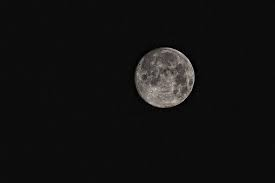moon: (130, 44, 206, 115)
